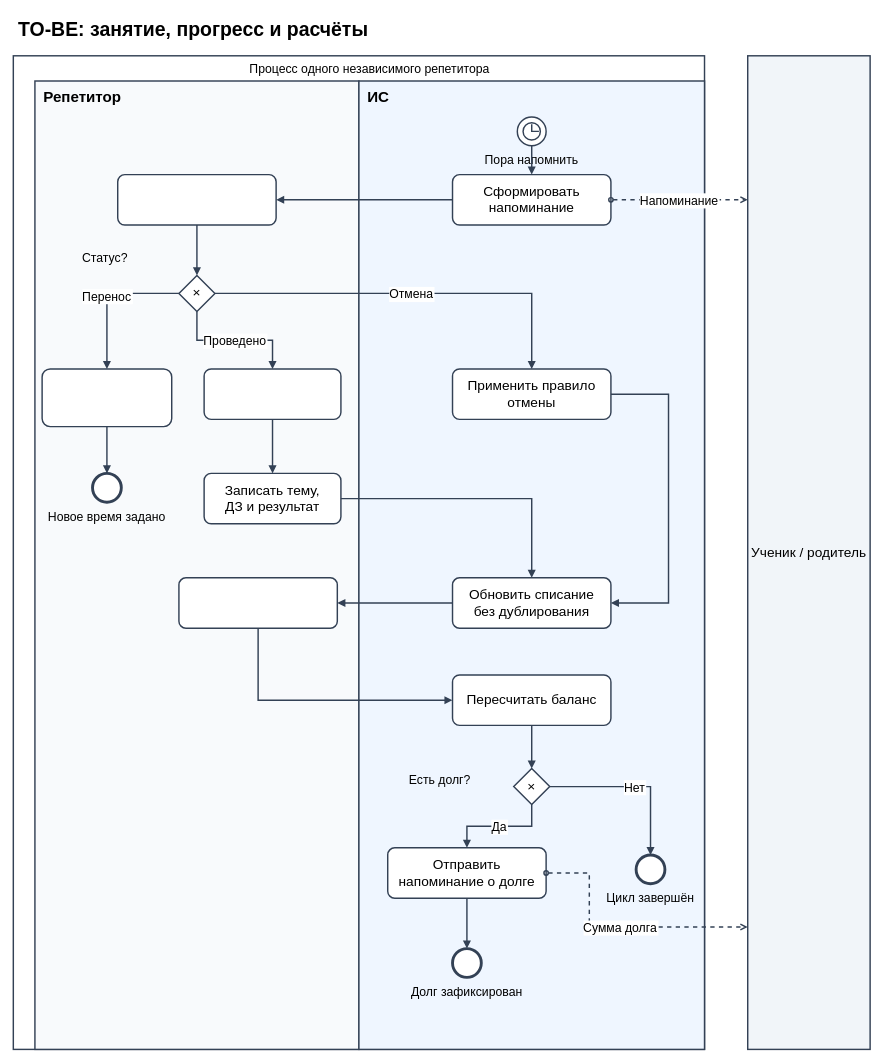
This 883x1062 diagram has some shape labels left out. Each missing label, with the centre of its shape:
"Задать новое время" belongs at point (106, 397).
"Подтвердить поступления / аванс" belongs at point (258, 603).
"Провести урок" belongs at point (272, 394).
"Уточнить статус занятия" belongs at point (196, 199).
